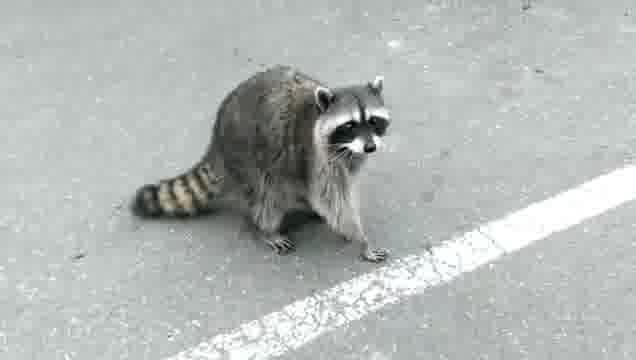raccoon: (135, 61, 391, 262)
